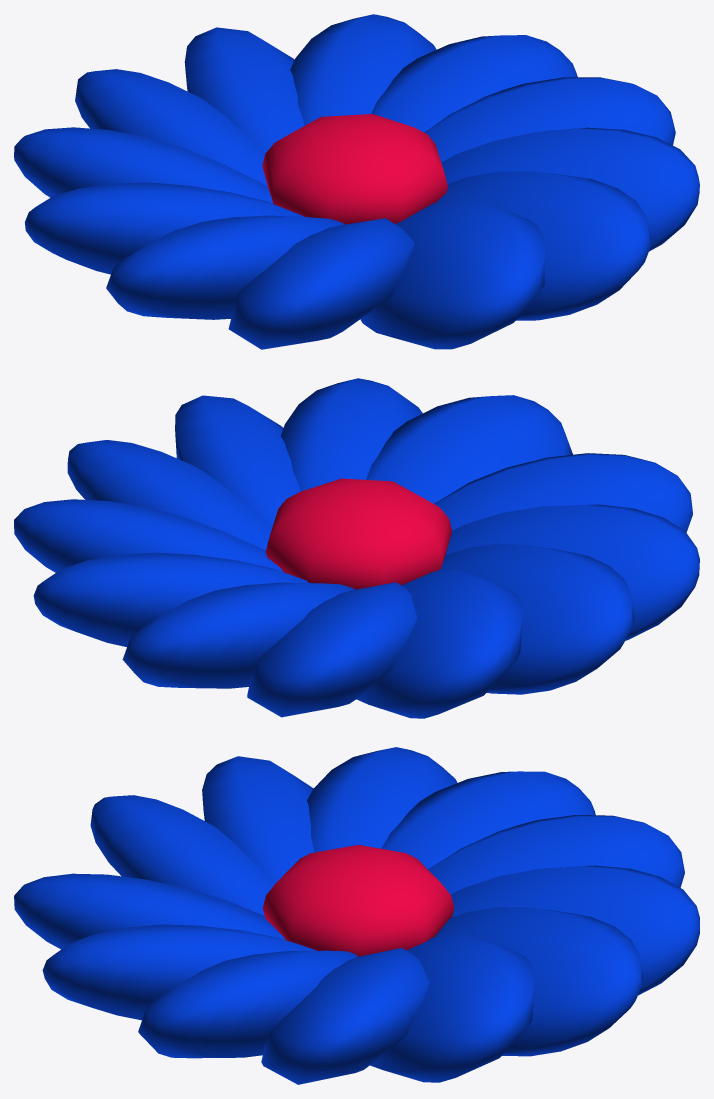
The model's file is Flower.fbx.
3 views of the same model, one above another, from view 1: azimuth 30°, elevation 25°; view 2: azimuth 150°, elevation 25°; view 3: azimuth 270°, elevation 25° (orthographic).
Visible parts, largest first — view 1: Flower; view 2: Flower; view 3: Flower.
Part boxes in pixels (<box>): Flower: <box>14,14,699,349</box>; Flower: <box>14,378,699,718</box>; Flower: <box>14,747,699,1084</box>.
Size of the model in its own units: 0.5358 by 0.1231 by 0.5383.
